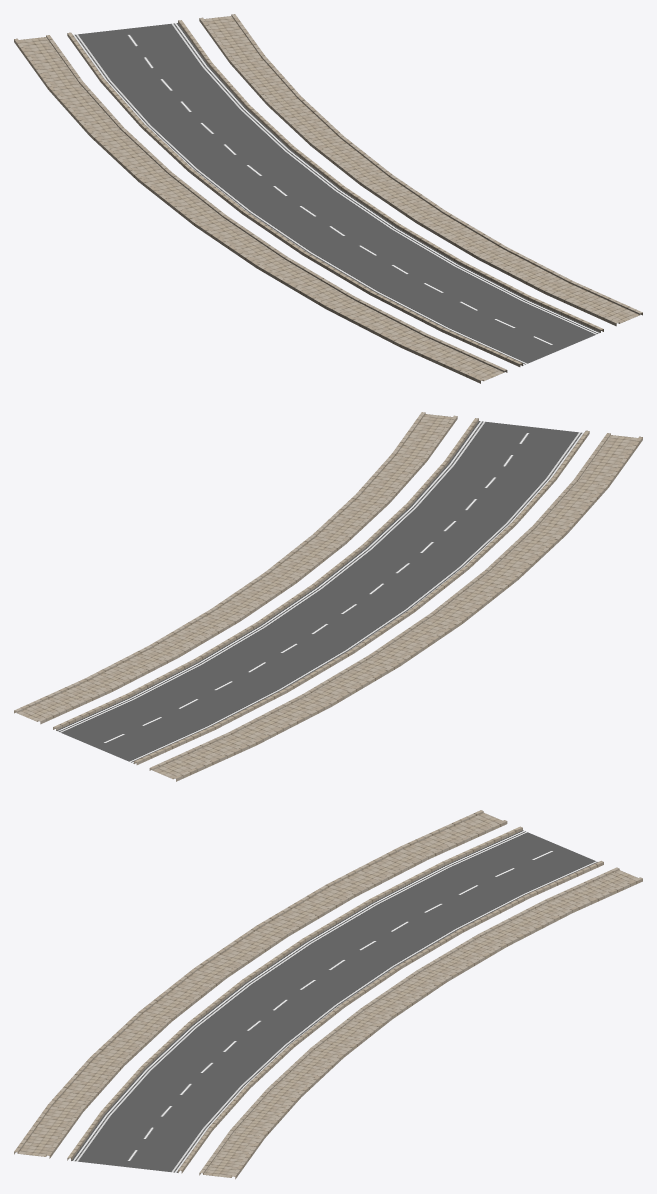
File: Street1LaneTurn30Deg.FBX
The picture shows the model from 3 angles, top to bottom: view 1: azimuth 30°, elevation 25°; view 2: azimuth 150°, elevation 25°; view 3: azimuth 330°, elevation 25°; orthographic projection.
Parts seen in each view (by area): view 1: Street1LaneTurn30Deg; view 2: Street1LaneTurn30Deg; view 3: Street1LaneTurn30Deg.
Boxes of the visible parts, x1,y1,x2,y2 form: Street1LaneTurn30Deg: [14, 14, 642, 383]; Street1LaneTurn30Deg: [14, 412, 642, 781]; Street1LaneTurn30Deg: [14, 810, 642, 1179].
Size of the model in its own units: 25.55 by 0.3 by 84.45.
Materials: 2 (2 with a texture image).
